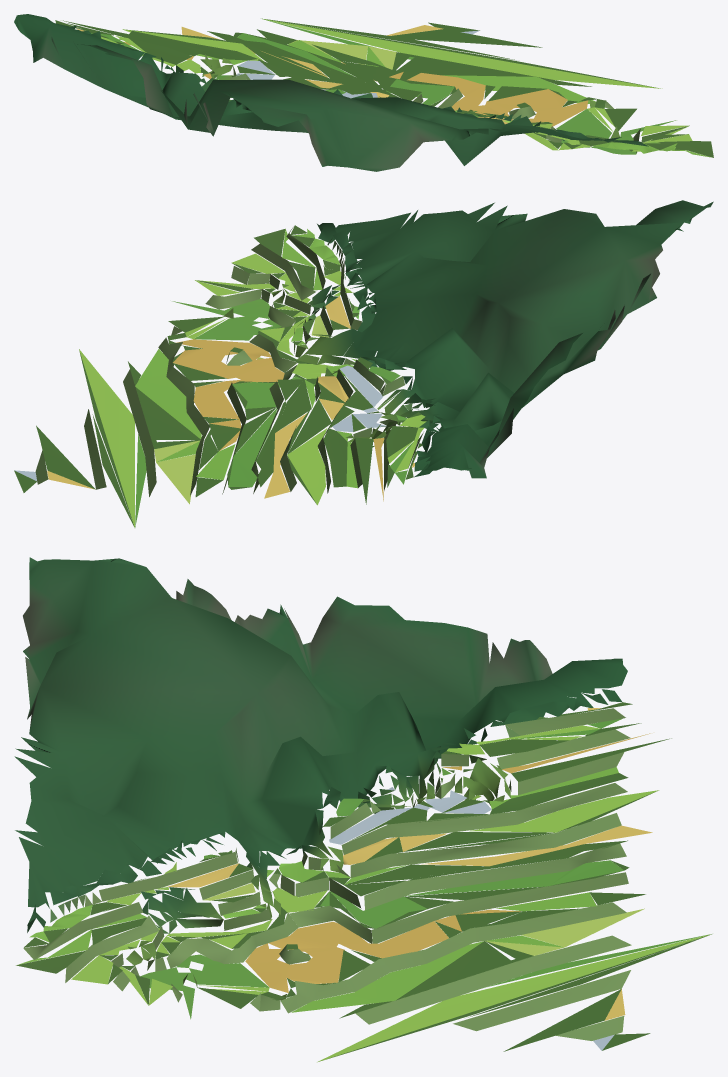
File: payo_land_xm2_y6_lod2.glb
The picture shows the model from 3 angles, top to bottom: view 1: azimuth 30°, elevation 25°; view 2: azimuth 150°, elevation 25°; view 3: azimuth 270°, elevation 25°; orthographic projection. The views are drawn at different scales.
Visible parts, largest first — view 1: payo_land_xm2_y6; view 2: payo_land_xm2_y6; view 3: payo_land_xm2_y6.
Part boxes in pixels (box(x1,y1,x2,y2)): payo_land_xm2_y6: box(14, 14, 713, 171); payo_land_xm2_y6: box(14, 200, 713, 527); payo_land_xm2_y6: box(14, 557, 711, 1062).
Bounding box in the file's own units: 301 × 111 × 301.
